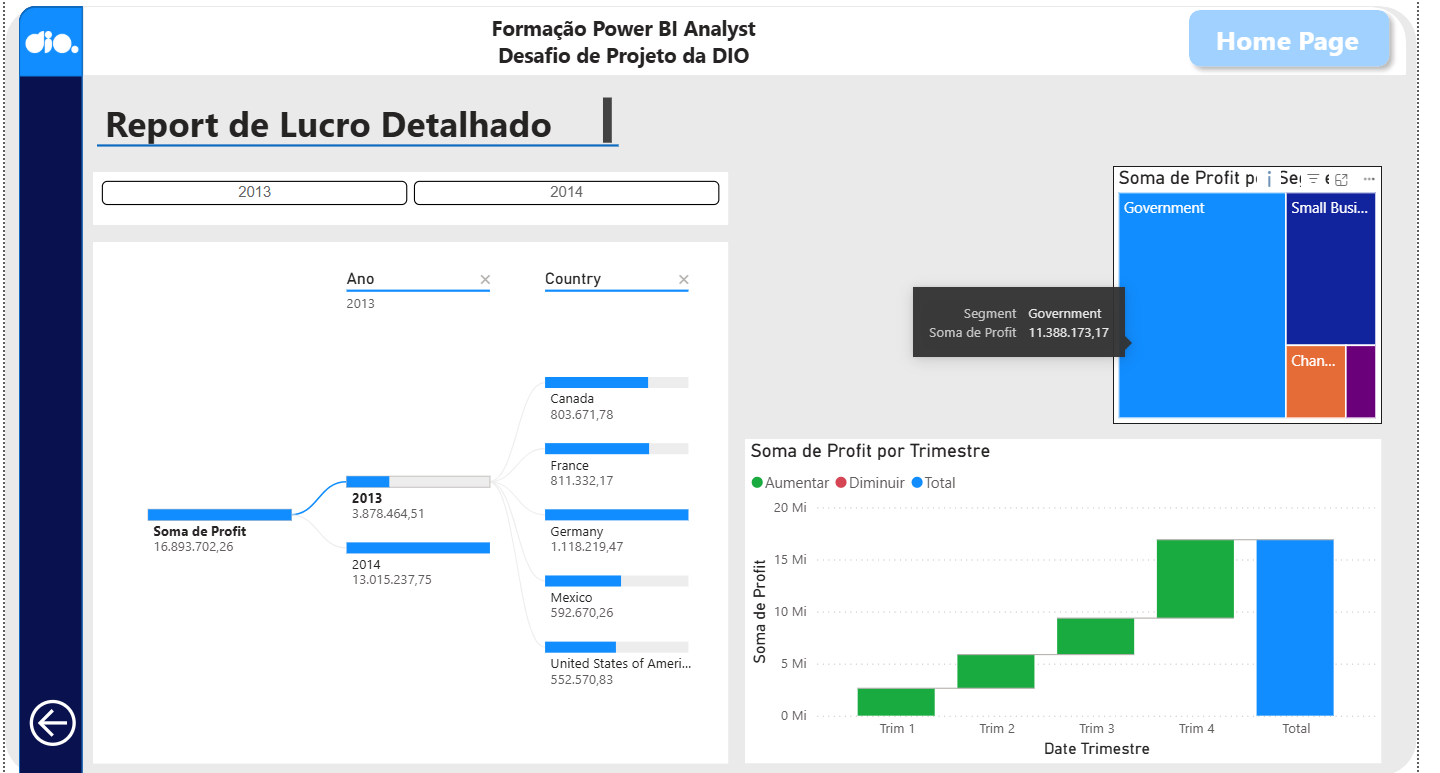

What the dashboard file says about the page in this screenshot:
{"tool":"powerbi","page":{"name":"Profit","canvas":[1280,720],"ordinal":1},"visuals":[{"type":"actionButton","title":"Home Page","box":[1064.7,14.6,199.6,69.2],"z":0,"group":"g2"},{"type":"shape","box":[0,19.9,1280.4,698.2],"z":0},{"type":"shape","box":[83.9,127.8,473,37.1],"z":0,"group":"g1"},{"type":"shape","box":[12.4,20.2,57.7,699.8],"z":1000},{"type":"textbox","box":[1076.9,29.4,173,42.6],"z":1000,"group":"g2"},{"type":"textbox","box":[85.3,97.6,470.2,52.2],"z":1000,"group":"g1"},{"type":"shape","box":[12.4,20.6,57.7,63.2],"z":2000},{"type":"image","box":[13.7,33,57.7,39.9],"z":3000},{"type":"shape","title":"Fundo do Título","box":[71.5,20.6,1198.9,61.9],"z":4000},{"type":"textbox","title":"Título do report","box":[83.4,21.8,954.9,63.5],"z":5000},{"type":"shape","box":[79.7,233.7,576.1,473],"z":6000},{"type":"decompositionTreeVisual","fields":{"Analyze":["Sum(financials.Profit)"],"ExplainBy":["financials.Date.Variation.Hierarquia de datas.Ano","financials.Country"]},"box":[99.8,242.2,536.3,456.5],"z":7000},{"type":"waterfallChart","fields":{"Category":["financials.Date.Variation.Hierarquia de datas.Trimestre"],"Y":["Sum(financials.Profit)"]},"box":[670.9,412.5,577.4,294.2],"z":8000},{"type":"ChicletSlicer1448559807354","fields":{"Category":["financials.Date.Variation.Hierarquia de datas.Ano"]},"box":[79.7,170.5,576.1,48.1],"z":9000},{"type":"treemap","fields":{"Group":["financials.Segment"],"Values":["Sum(financials.Profit)"]},"box":[1005,165,243.4,233.7],"z":11000},{"type":"group","id":"g1","title":"Sales report","box":[83.9,97.6,473,67.4],"z":12000},{"type":"actionButton","box":[15.9,622.4,54,96.9],"z":13000},{"type":"group","id":"g2","title":"Botão home","box":[1064.7,14.6,199.6,69.2],"z":14000}]}

Visuals, with their boxes on the page's 1280x720 design canvas (x1, y1, x2, y2). These are canvas units, not pixel positions in the 1440x773 screenshot, which may show the page scaled, cropped or inside an application window:
"Home Page" actionButton: detection(1065, 15, 1264, 84)
shape: detection(0, 20, 1280, 718)
shape: detection(84, 128, 557, 165)
shape: detection(12, 20, 70, 720)
textbox: detection(1077, 29, 1250, 72)
textbox: detection(85, 98, 556, 150)
shape: detection(12, 21, 70, 84)
image: detection(14, 33, 71, 73)
"Fundo do Título" shape: detection(72, 21, 1270, 82)
"Título do report" textbox: detection(83, 22, 1038, 85)
shape: detection(80, 234, 656, 707)
decompositionTreeVisual - Sum(financials.Profit) x financials.Date.Variation.Hierarquia de datas.Ano: detection(100, 242, 636, 699)
waterfallChart - financials.Date.Variation.Hierarquia de datas.Trimestre x Sum(financials.Profit): detection(671, 412, 1248, 707)
ChicletSlicer1448559807354 - financials.Date.Variation.Hierarquia de datas.Ano: detection(80, 170, 656, 219)
treemap - financials.Segment x Sum(financials.Profit): detection(1005, 165, 1248, 399)
"Sales report" group: detection(84, 98, 557, 165)
actionButton: detection(16, 622, 70, 719)
"Botão home" group: detection(1065, 15, 1264, 84)
